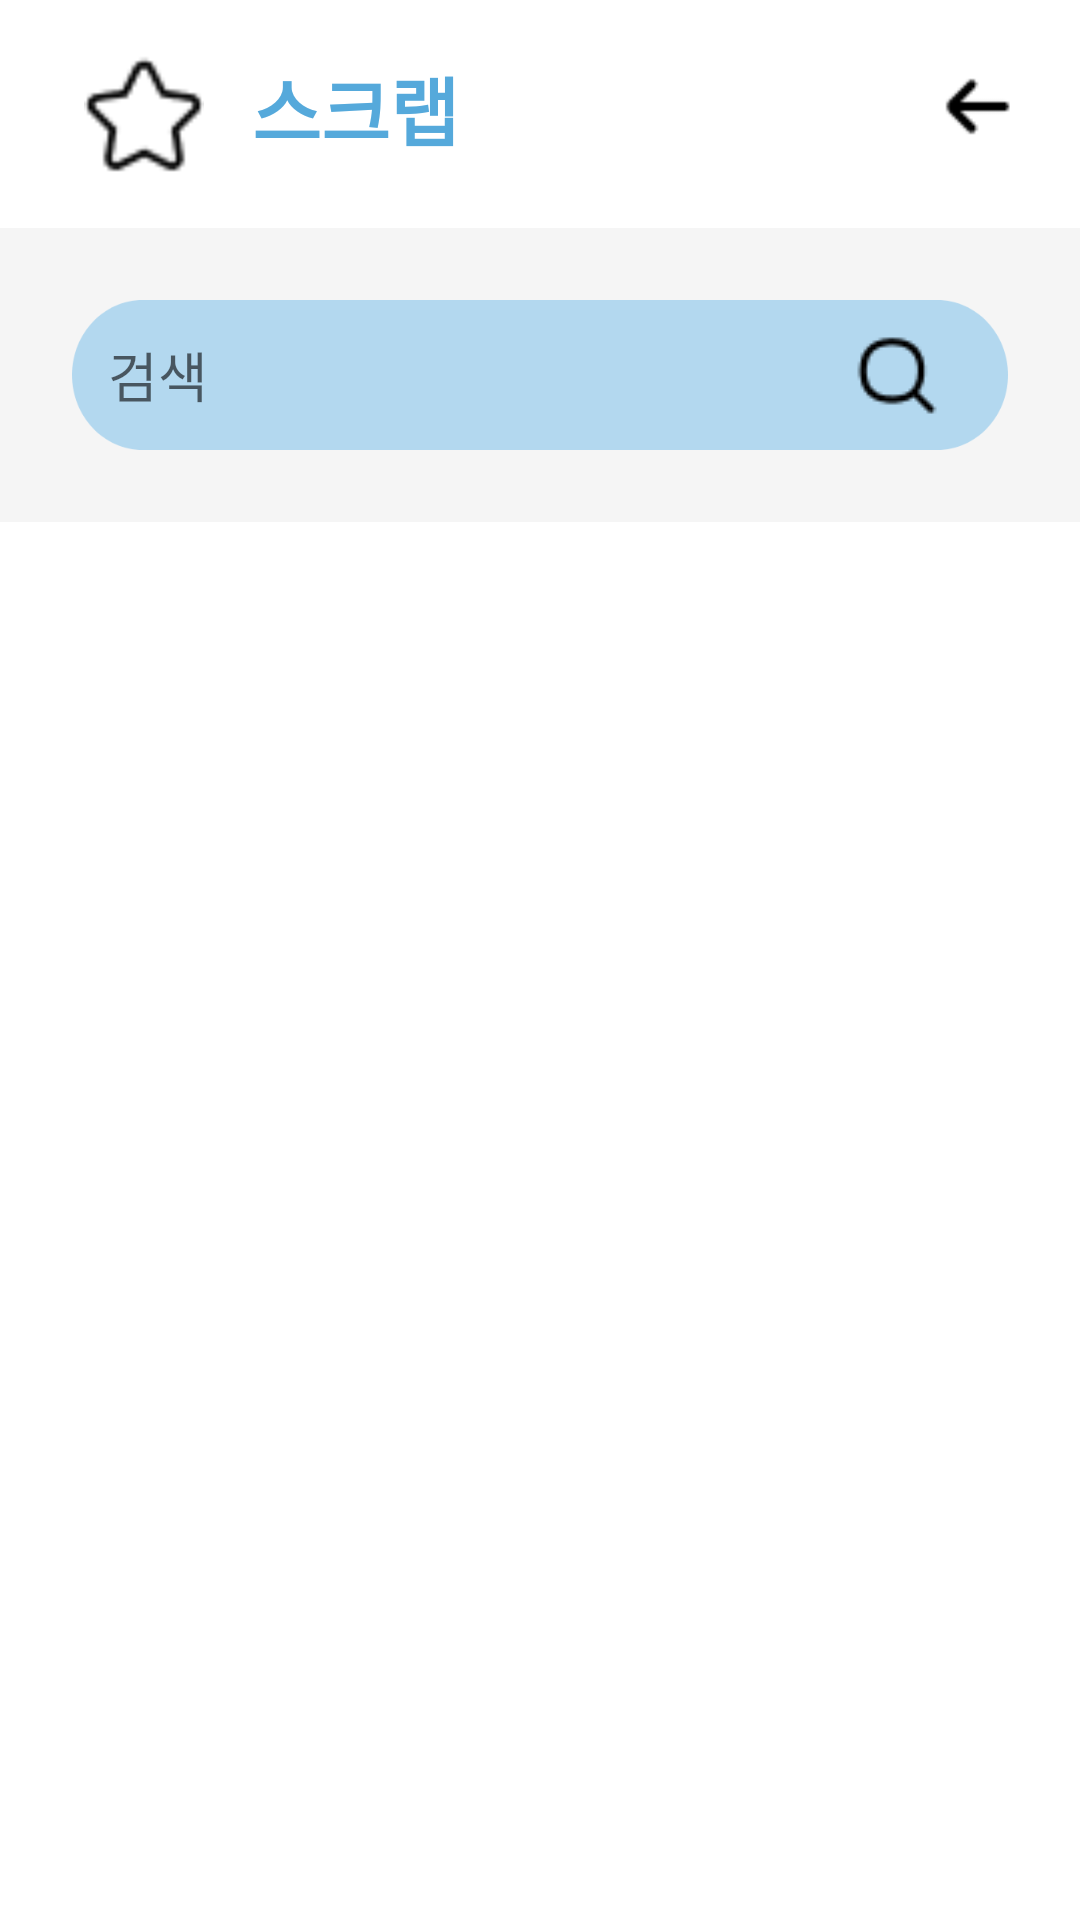

Named icons in this screenshot (1080px×1920px) and their bounding boxes, (x1, y1, x2, y2):
star: (84, 58, 204, 172)
뒤로가기 버튼: (946, 79, 1010, 134)
